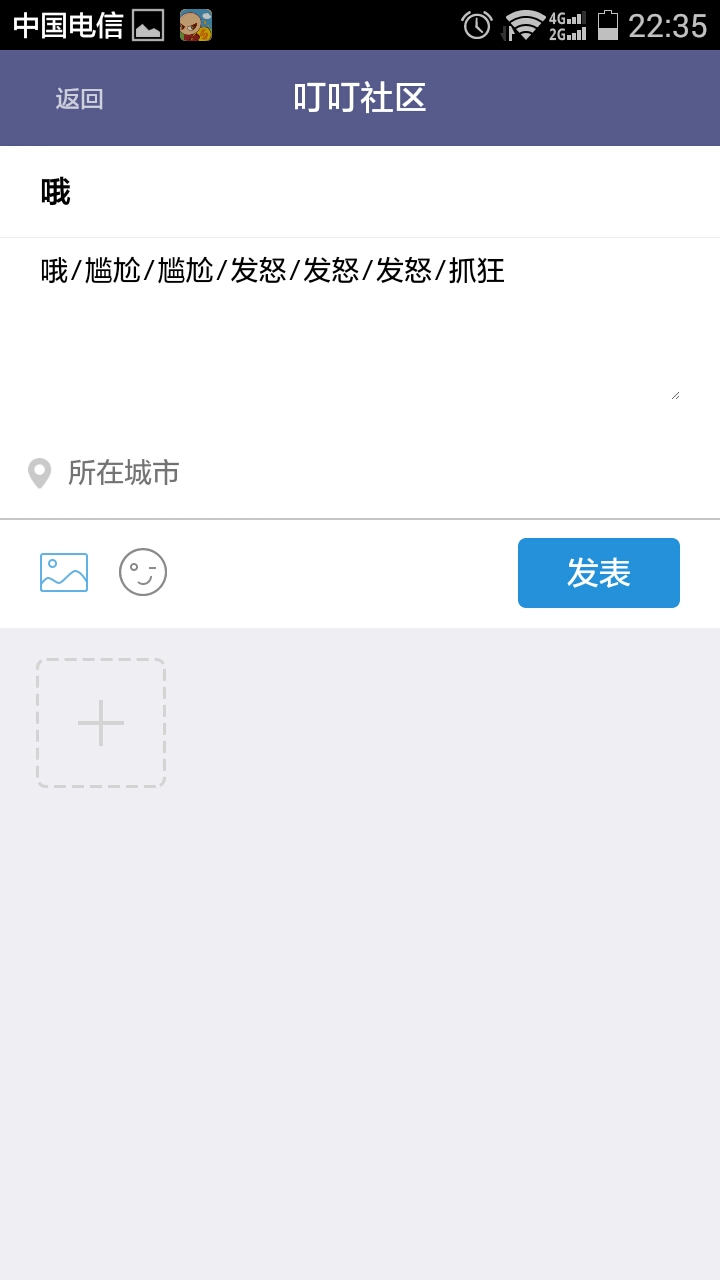button: (513, 530, 689, 617)
imgbutton: (24, 540, 101, 603), (116, 545, 175, 603)
textview: (9, 148, 720, 401)
